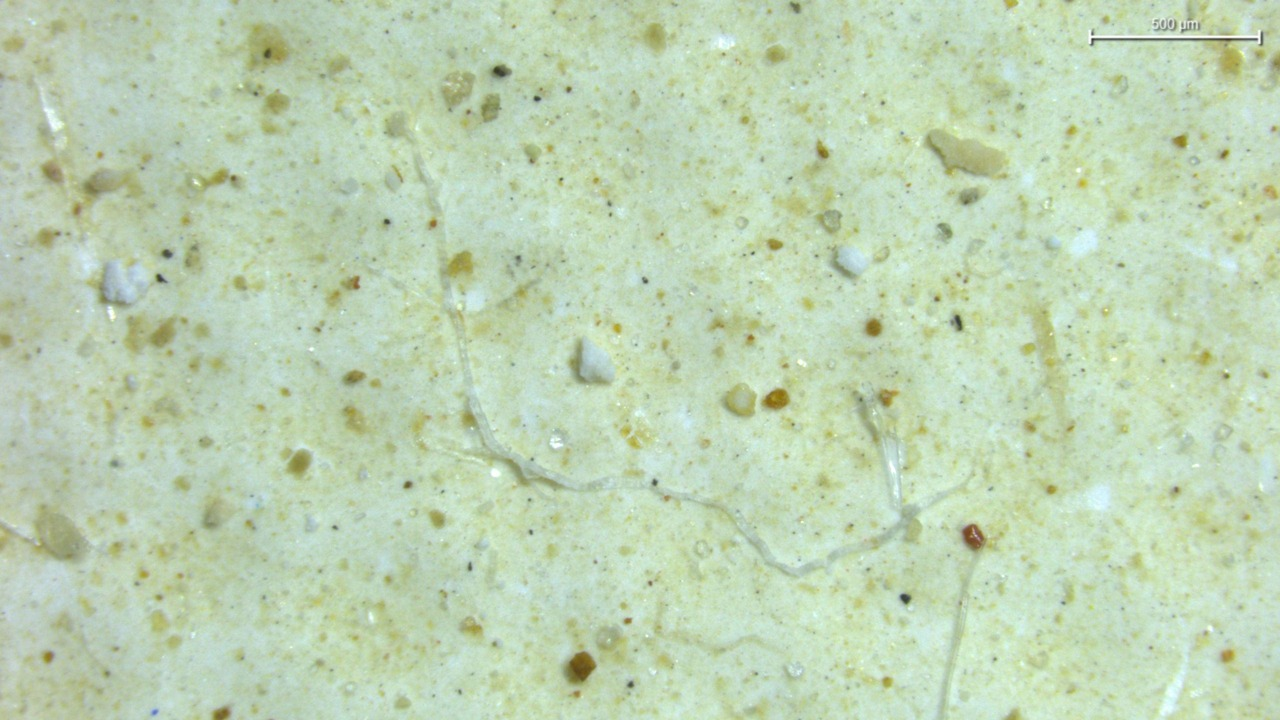microplastic_fragment: (928, 129, 1007, 175), (101, 259, 149, 304), (576, 338, 614, 383), (725, 383, 757, 416), (835, 245, 869, 275)
